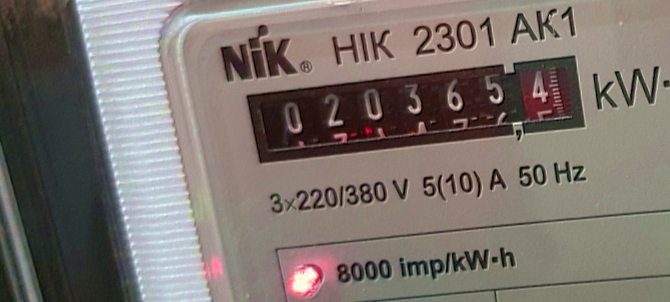0: (361, 87, 383, 124), (280, 101, 303, 136)
2: (319, 93, 344, 130)
3: (401, 81, 422, 117)
4: (527, 70, 549, 105)
5: (482, 73, 504, 107)
6: (442, 78, 464, 115)
screen: (228, 45, 603, 175)
